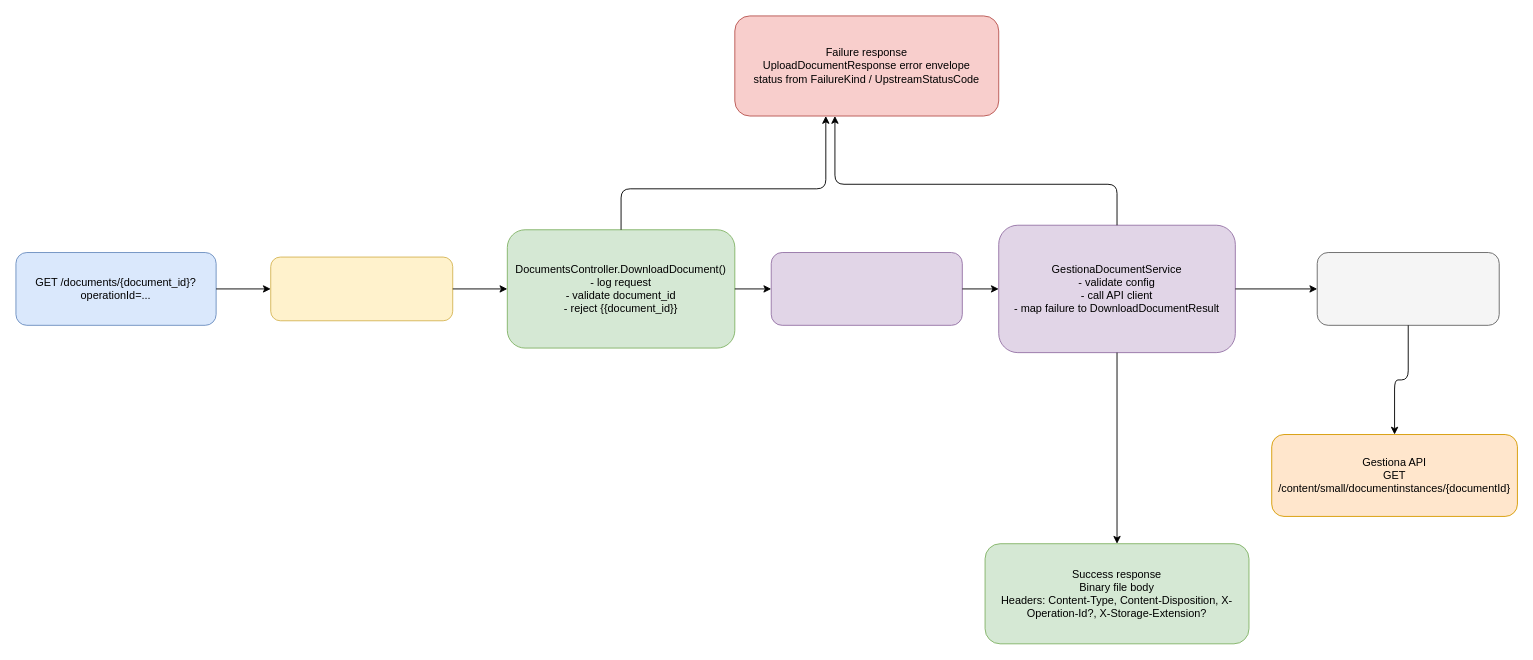
Image size: 1533x660. Some labels were removed from this diagram. The box of each missing label's shape, as (x1, y1, x2, y2) in pixels:
IGestionaApiClient DownloadDocumentAsync(): (1316, 252, 1499, 325)
IGestionaDocumentService DownloadDocumentAsync(): (770, 252, 962, 325)
Middleware UseSerilogRequestLogging(): (270, 256, 453, 321)
